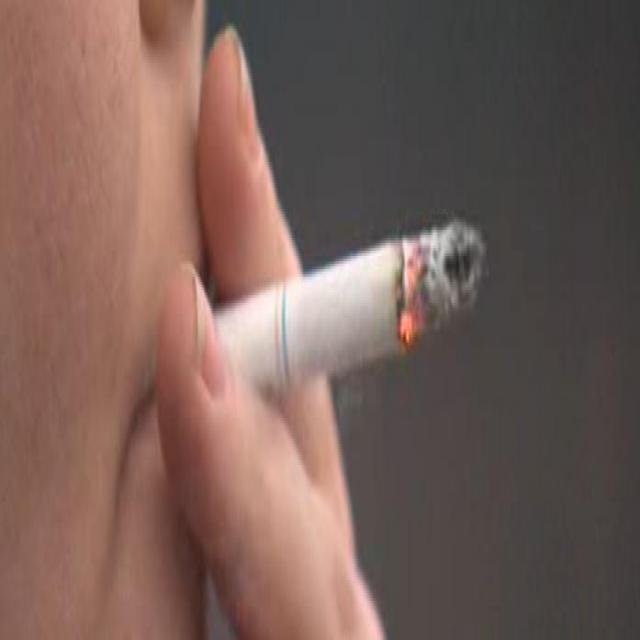cigarette: (255, 176, 492, 413)
